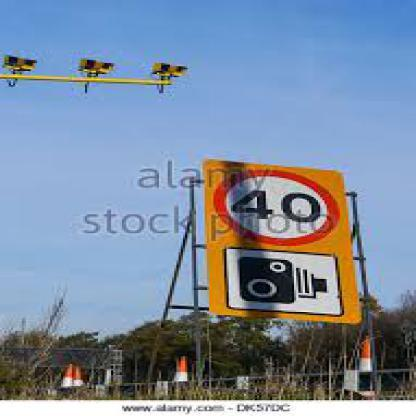Speed Limit 40: (218, 171, 340, 242)
